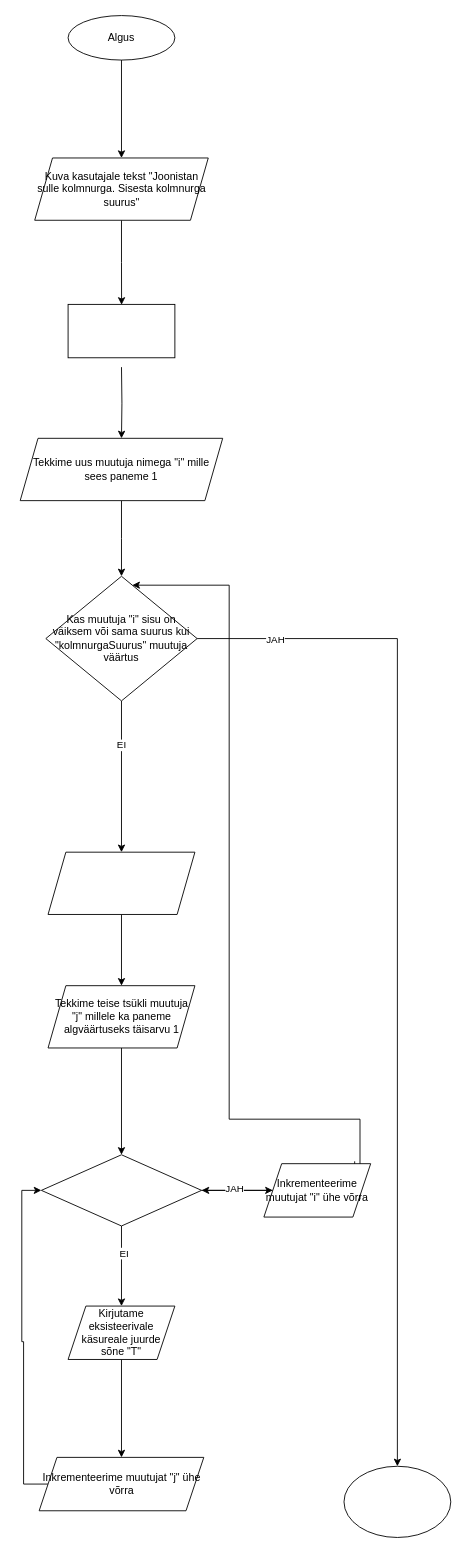
The diagram is 466 pixels wide and 1553 high, and some of its shapes have lost their labels. The box of each missing label's shape, as (x1, y1, x2, y2) in pixels:
Asetame käsureale uue, tühja rea kasutades "Console.WriteLine();": (47, 851, 195, 914)
Kas muutuja "j" sisu on väiksem või sama suurus kui "i" muutuja väärtus: (40, 1154, 202, 1226)
Lõpp: (343, 1465, 451, 1537)
Ootame kuni kasutaja sisestab täisarvu muutujase kolmnurgaSuurus: (67, 303, 175, 358)
